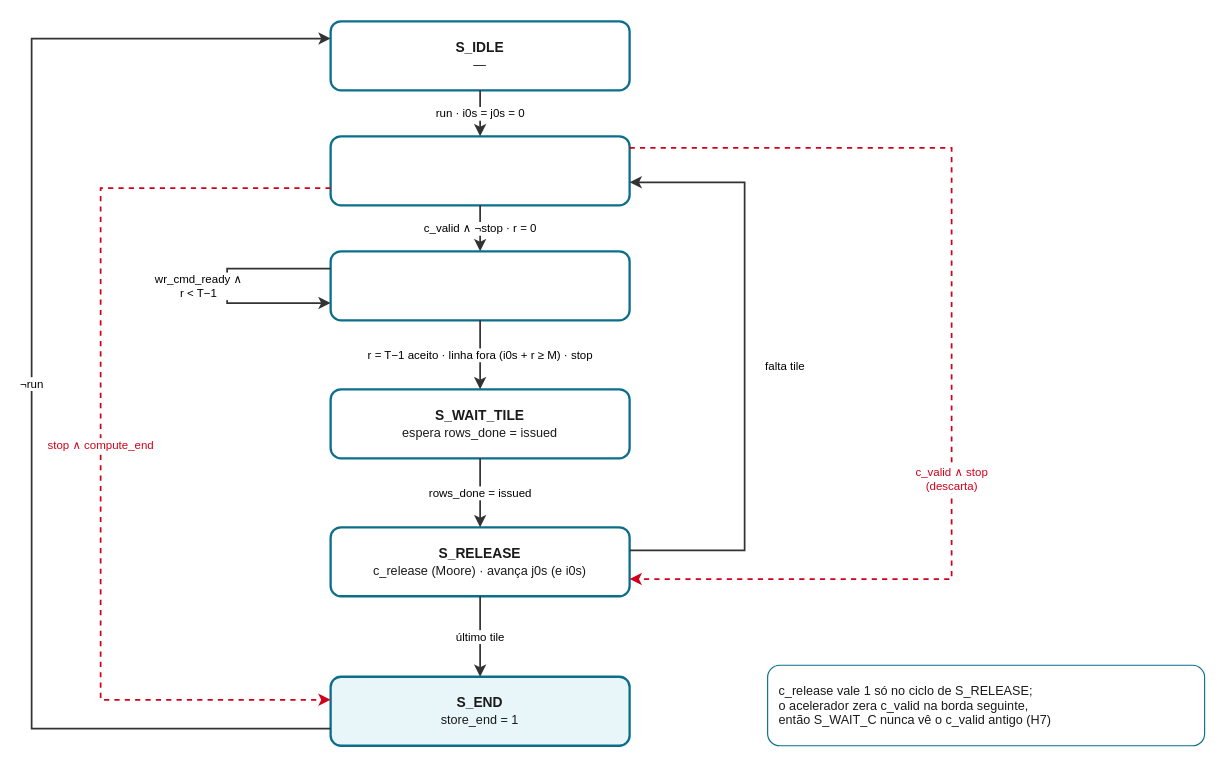
Image size: 1225x766. Some labels were removed from this diagram. Each missing label, with the box of its shape:
S_ROW wr_cmd: addr = ptr_c, nwords = min(T, N−j0s): (329, 250, 630, 321)
S_WAIT_C espera c_valid: (329, 135, 630, 206)
